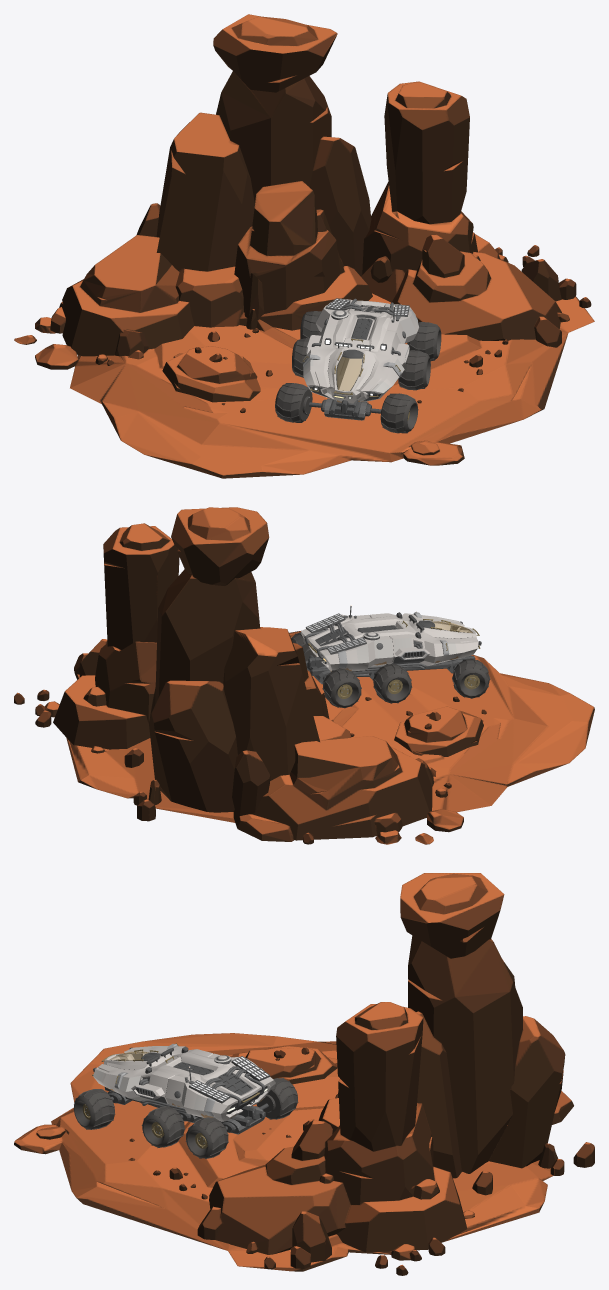
The model's file is rover.glb.
The picture shows the model from 3 angles, top to bottom: view 1: azimuth 30°, elevation 25°; view 2: azimuth 150°, elevation 25°; view 3: azimuth 270°, elevation 25°; orthographic projection. The views are drawn at different scales.
Visible parts, largest first — view 1: Cylinder.216_96, Car_6, Wheel F.L_8, Wheel F.R_10, Wheel M.L_16, Wheel B.L_12; view 2: Cylinder.216_96, Car_6, Wheel F.B_14, Wheel M.R_18, Wheel F.R_10; view 3: Cylinder.216_96, Car_6, Wheel M.L_16, Wheel B.L_12, Wheel F.L_8, Wheel F.B_14.
Boxes of the visible parts, bbox=[...] form: Cylinder.216_96: bbox=[14, 14, 594, 478]; Car_6: bbox=[302, 298, 418, 420]; Wheel F.L_8: bbox=[380, 393, 418, 433]; Wheel F.R_10: bbox=[275, 383, 312, 422]; Wheel M.L_16: bbox=[398, 350, 430, 390]; Wheel B.L_12: bbox=[407, 322, 441, 360]; Cylinder.216_96: bbox=[14, 507, 594, 844]; Car_6: bbox=[301, 605, 481, 684]; Wheel F.B_14: bbox=[322, 668, 361, 708]; Wheel M.R_18: bbox=[372, 663, 412, 703]; Wheel F.R_10: bbox=[452, 658, 490, 698]; Cylinder.216_96: bbox=[14, 873, 594, 1275]; Car_6: bbox=[92, 1043, 275, 1134]; Wheel M.L_16: bbox=[141, 1106, 185, 1147]; Wheel B.L_12: bbox=[185, 1117, 228, 1158]; Wheel F.L_8: bbox=[73, 1089, 115, 1129]; Wheel F.B_14: bbox=[256, 1078, 298, 1119].
Size of the model in its own units: 14.63 by 7.65 by 14.54.
Materials: 18 (1 with a texture image).
